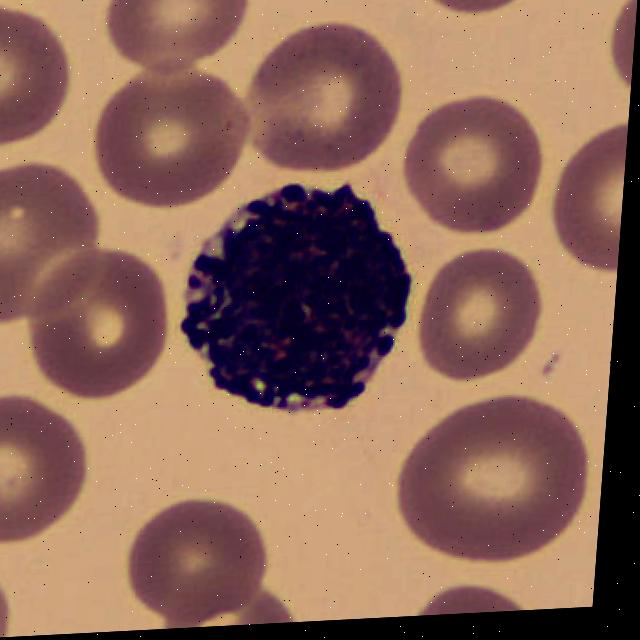basophil: (173, 163, 430, 429)
rbc: (379, 397, 589, 573), (224, 29, 409, 191), (3, 247, 183, 403), (390, 246, 559, 402), (91, 68, 257, 226), (387, 106, 556, 243), (0, 167, 116, 331), (117, 506, 268, 626), (0, 386, 106, 542), (535, 137, 627, 286), (97, 0, 251, 87), (0, 12, 84, 159), (143, 584, 303, 630), (590, 0, 640, 110), (402, 583, 536, 617), (407, 0, 540, 33), (0, 547, 24, 640)
